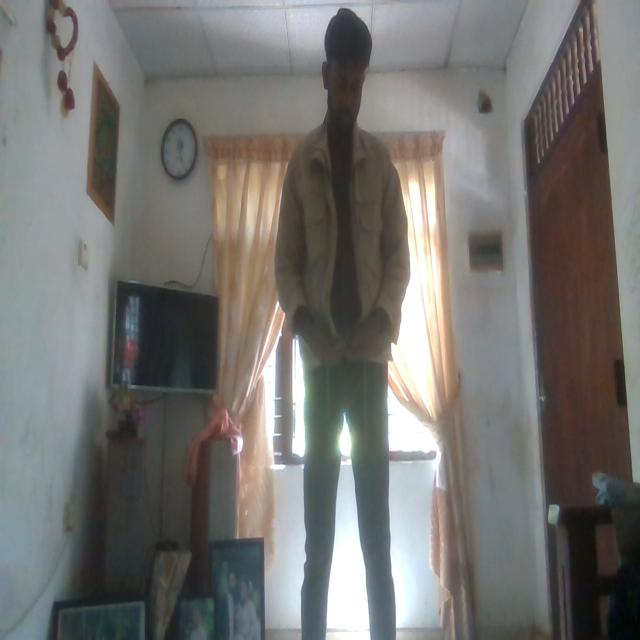Jacket_Wearer: (282, 124, 420, 378)
Person: (280, 21, 404, 623)
